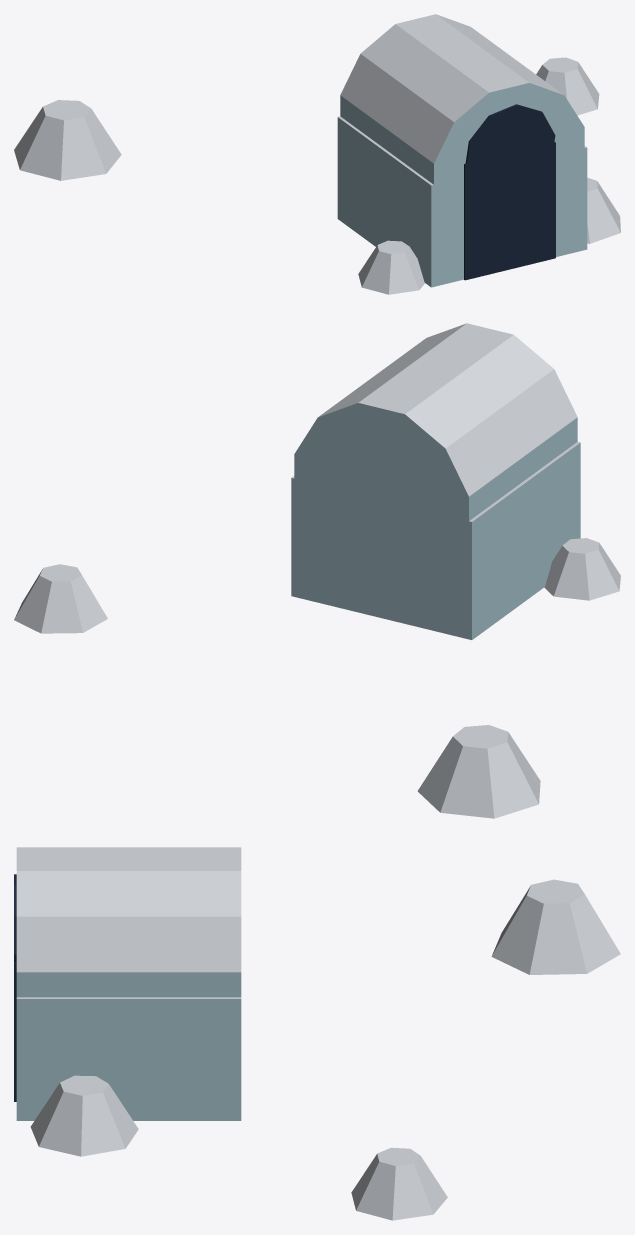
Rendered from Igloo_Door.glb.
3 views of the same model, one above another, from view 1: azimuth 30°, elevation 25°; view 2: azimuth 150°, elevation 25°; view 3: azimuth 270°, elevation 25° (orthographic). The views are drawn at different scales.
Visible parts, largest first — view 1: Igloo_Door; view 2: Igloo_Door; view 3: Igloo_Door.
Part boxes in pixels (<box>): Igloo_Door: <box>14,14,620,294</box>; Igloo_Door: <box>14,323,620,818</box>; Igloo_Door: <box>14,847,620,1220</box>.
Size of the model in its own units: 15.78 by 5.34 by 13.52.
